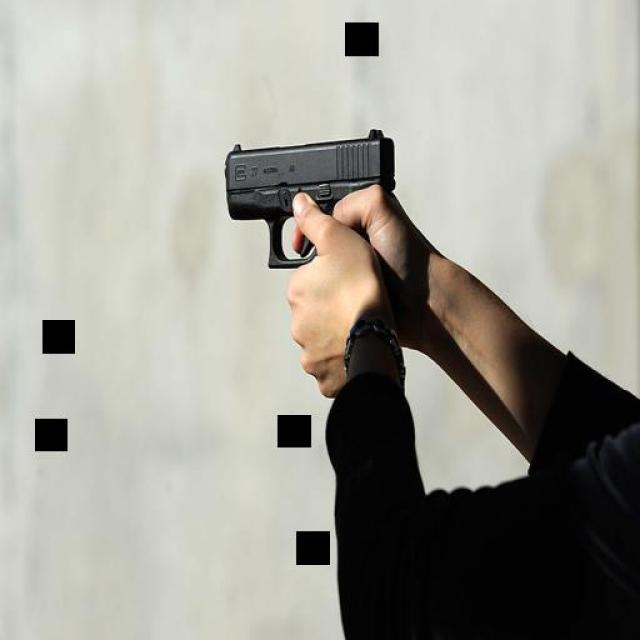gun: (223, 125, 395, 275)
